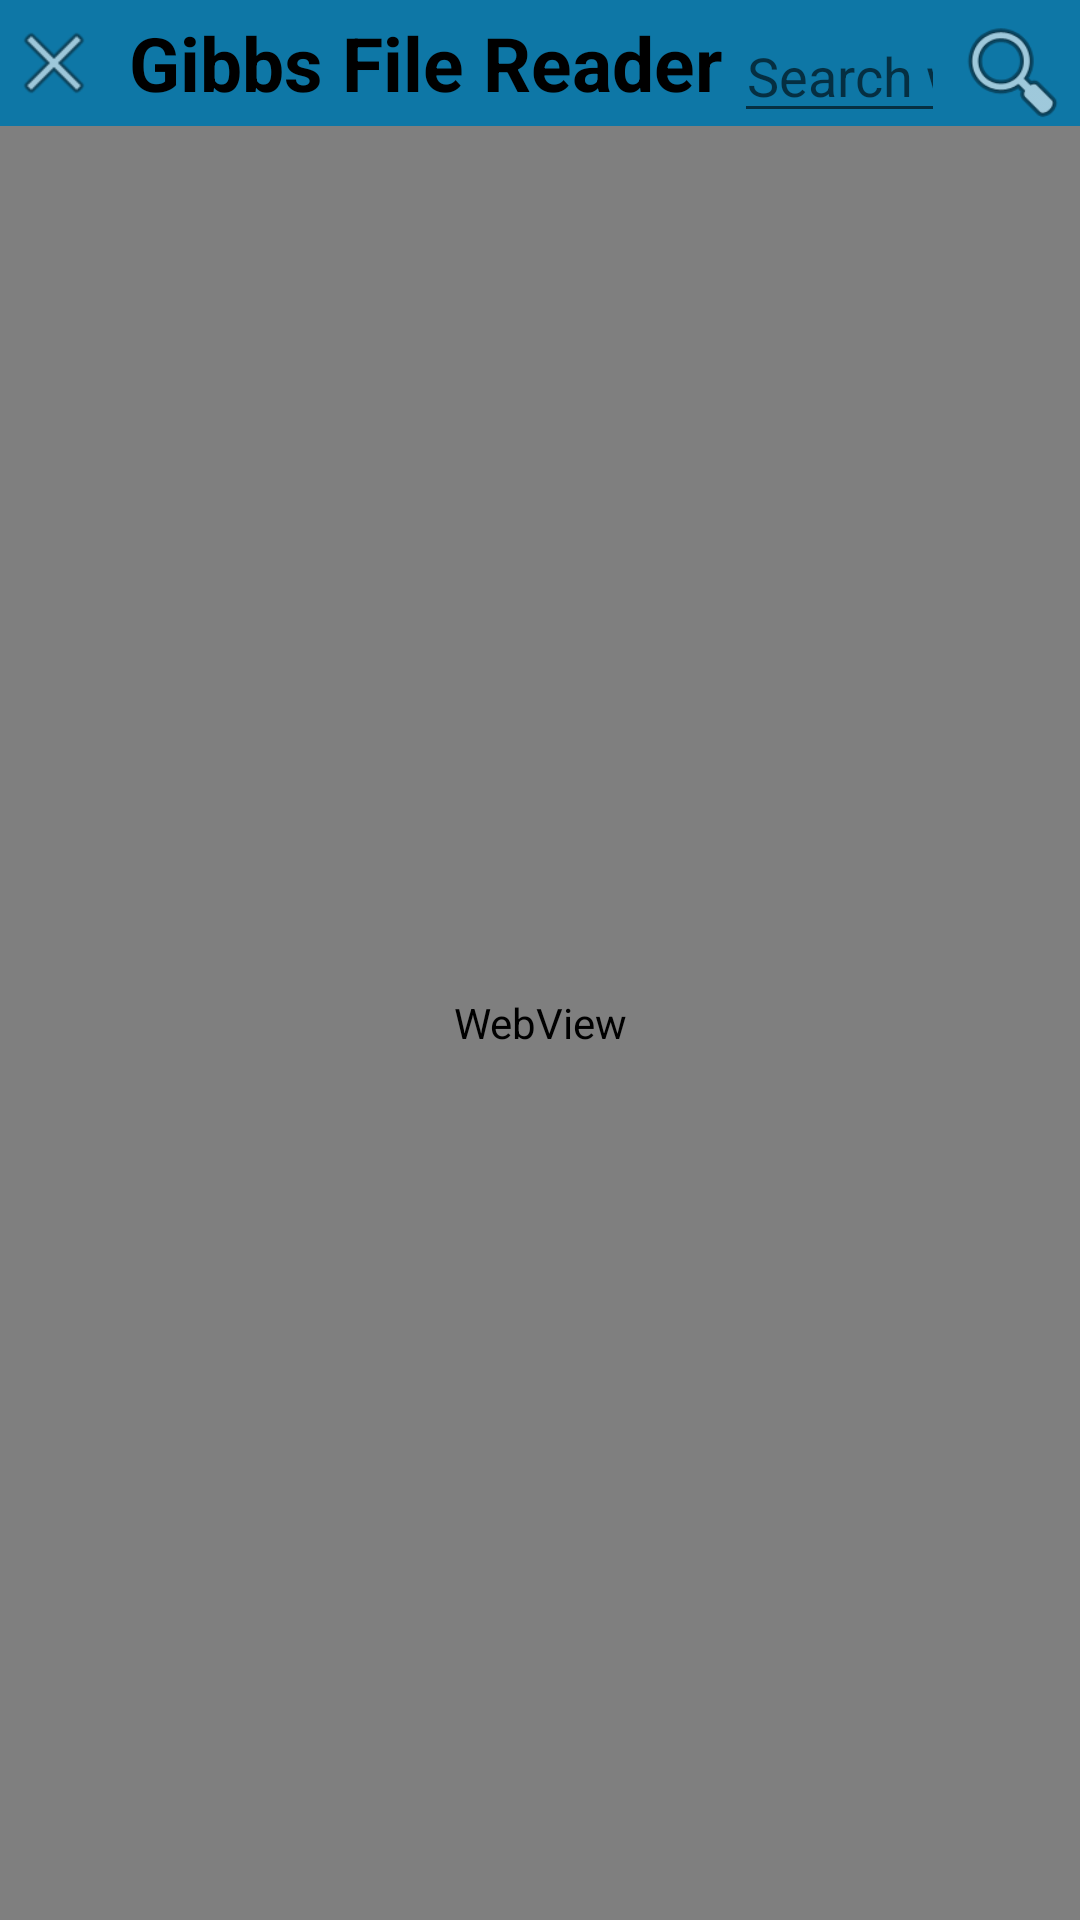

Screen size 1080 × 1920. Icon name, then its center in pixels as (x=x, y=y):
close clear cancel: (x=54, y=63)
